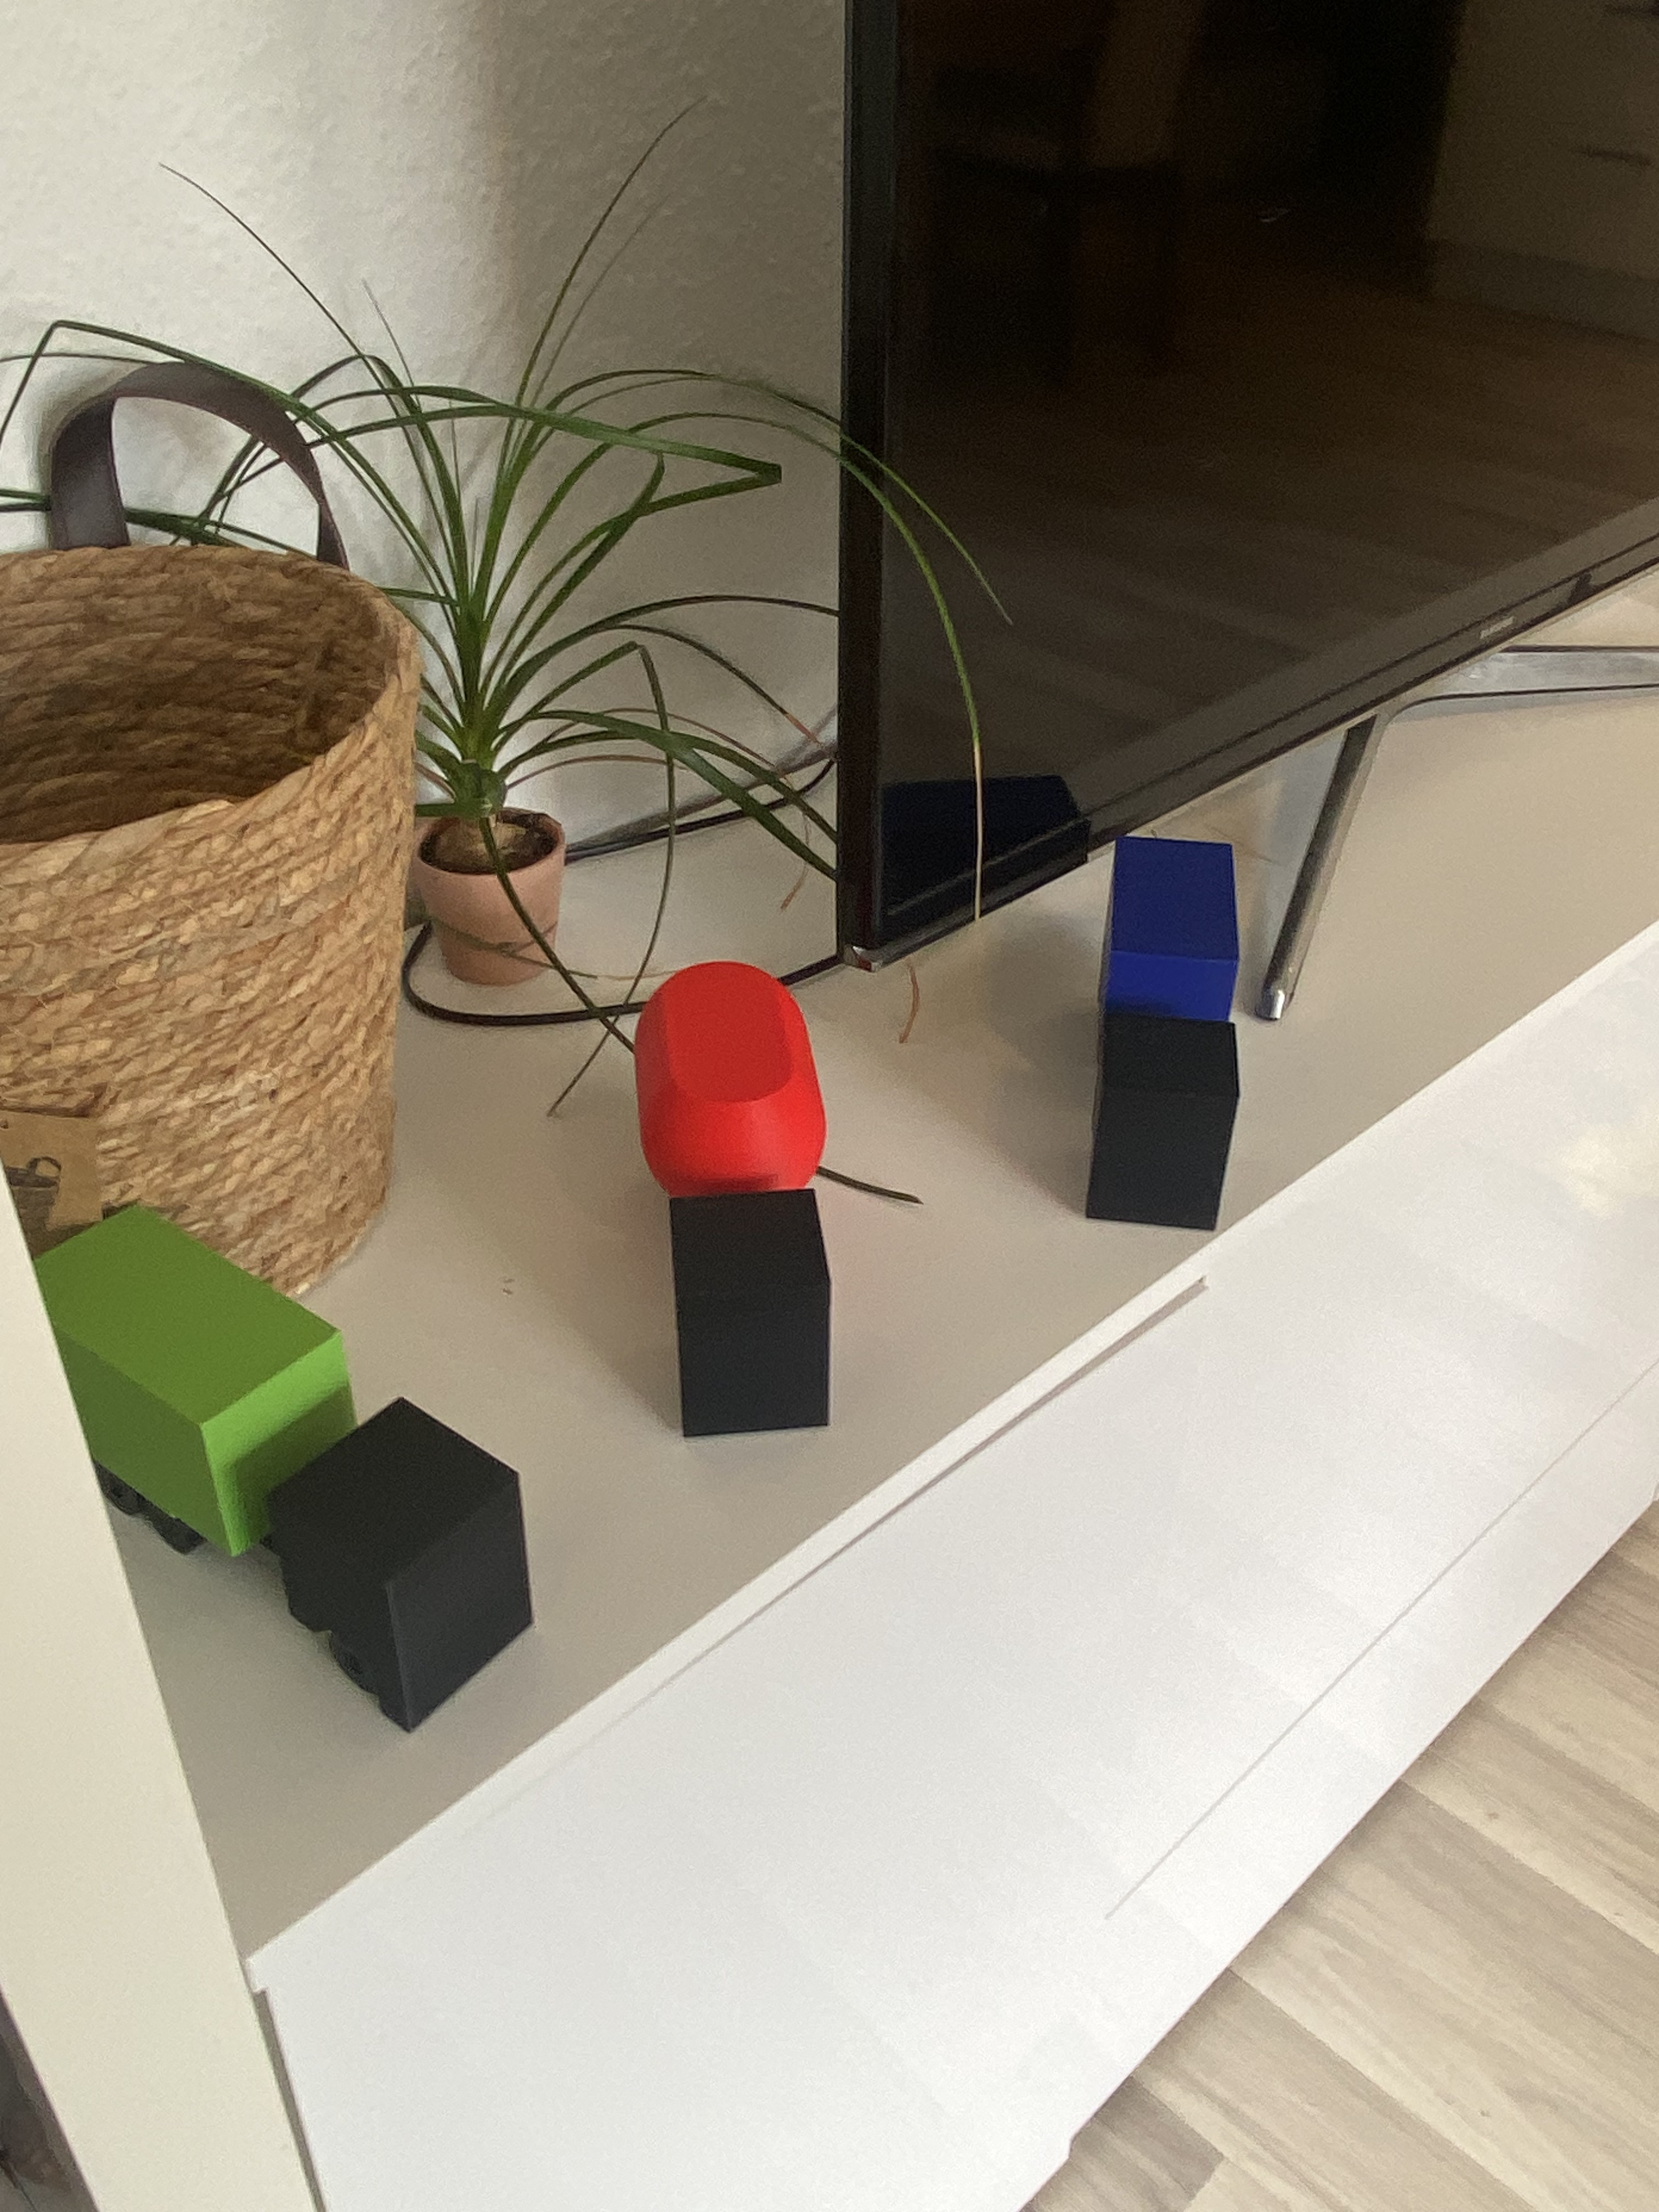blue_truck: (978, 951, 1359, 1111)
green_truck: (136, 1122, 404, 1777)
red_truck: (488, 1101, 985, 1277)
